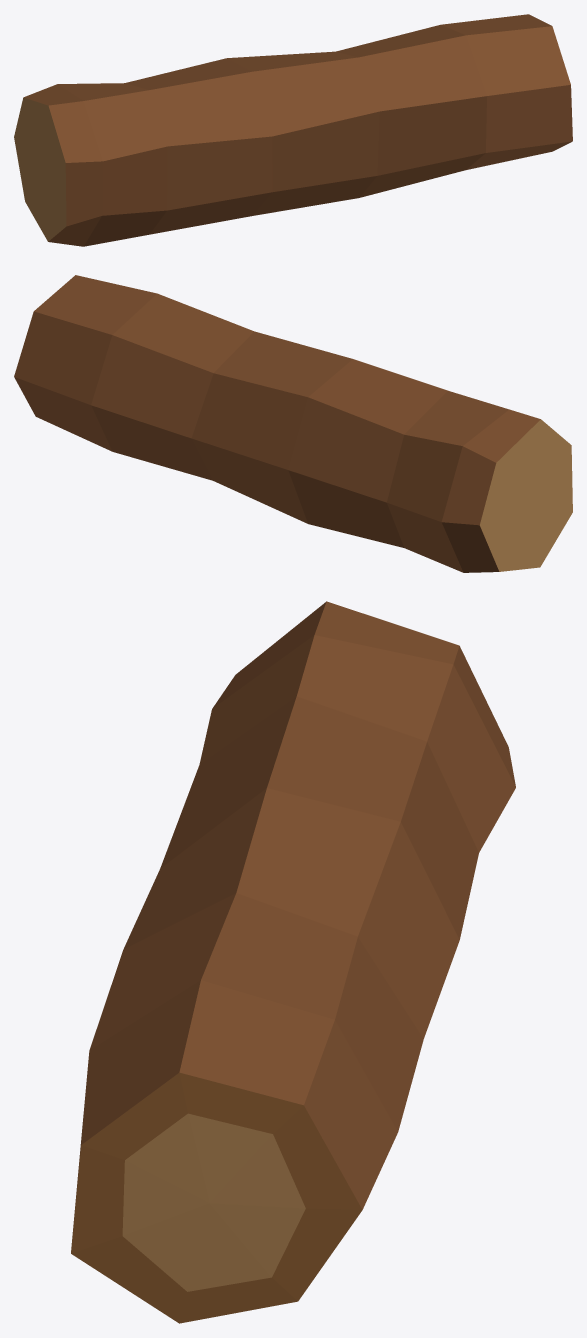
Rendered from FallenLog.fbx.
The picture shows the model from 3 angles, top to bottom: view 1: azimuth 30°, elevation 25°; view 2: azimuth 150°, elevation 25°; view 3: azimuth 270°, elevation 25°; orthographic projection. The views are drawn at different scales.
Visible parts, largest first — view 1: FallenLog; view 2: FallenLog; view 3: FallenLog.
Part boxes in pixels (left/top/right/bottom): FallenLog: left=14, top=14, right=572, bottom=246; FallenLog: left=14, top=275, right=572, bottom=572; FallenLog: left=71, top=601, right=515, bottom=1323.
Size of the model in its own units: 267 by 77.47 by 106.
